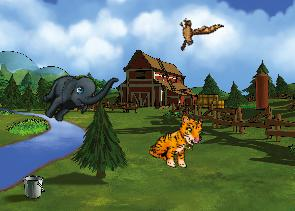eagle: (166, 2, 224, 61)
elephant: (35, 50, 119, 139)
tiger: (146, 108, 206, 173)
